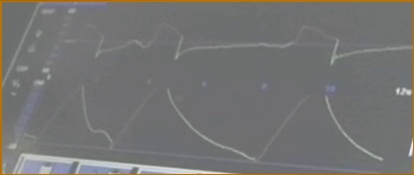Ineffective_effort Flow: (65, 14, 410, 69)
Ineffective_effort Volume: (24, 86, 384, 164)
